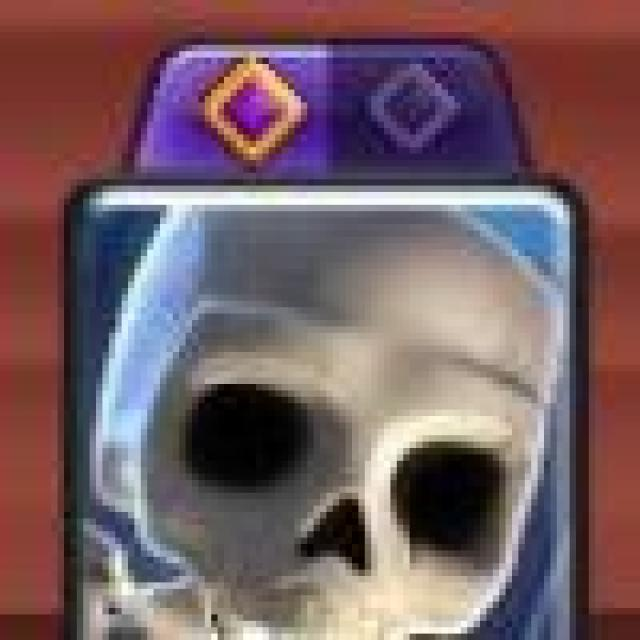Skeletons: (65, 186, 588, 640)
